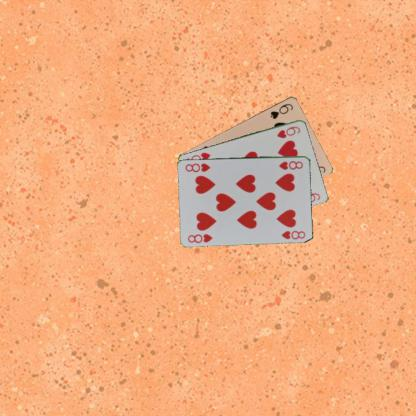6h: (274, 124, 302, 139)
6s: (268, 101, 294, 120)
8h: (185, 231, 214, 244), (276, 158, 304, 171)
